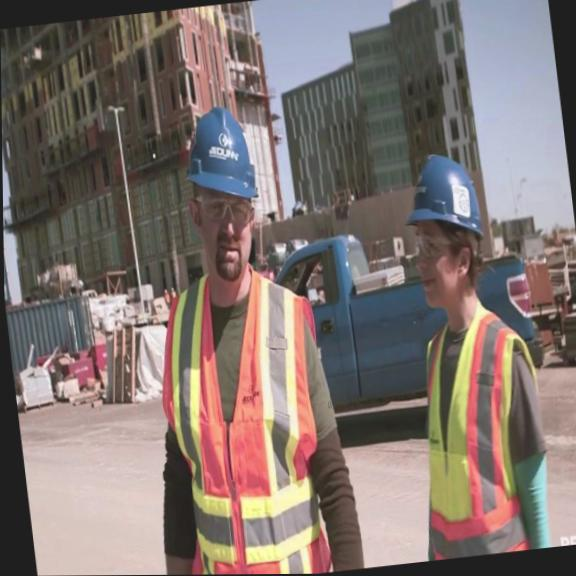safety_vest: (147, 261, 347, 575), (399, 288, 558, 561)
